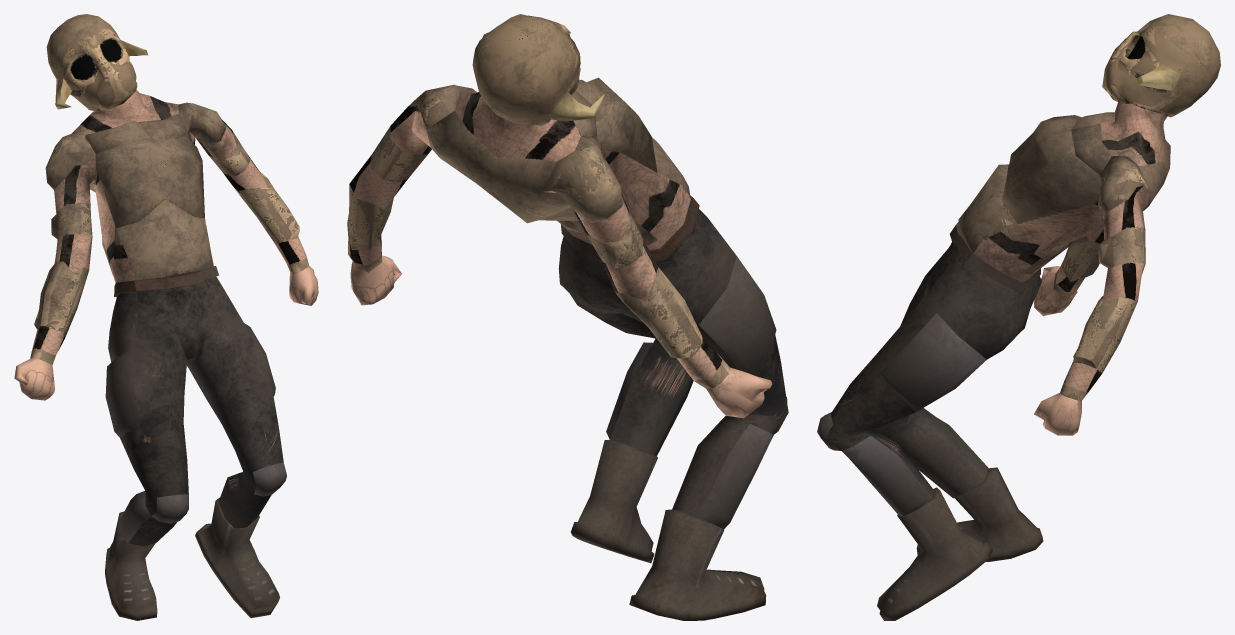
File: Anim_morir_npc1.0024.obj
3 views of the same model, side by side, from view 1: azimuth 30°, elevation 25°; view 2: azimuth 150°, elevation 25°; view 3: azimuth 270°, elevation 25° (orthographic). The views are drawn at different scales.
Visible parts, largest first — view 1: NPC2; view 2: NPC2; view 3: NPC2.
Boxes of the visible parts, x1,y1,x2,y2 form: NPC2: (14,14,318,620); NPC2: (347,14,788,620); NPC2: (817,14,1220,620).
Bounding box in the file's own units: 4.91 × 7.84 × 5.02.
